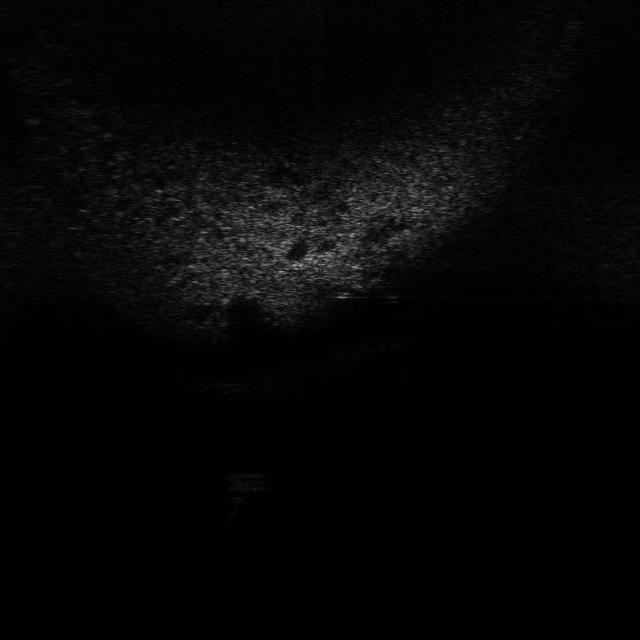ball: (370, 264, 410, 300)
cube: (220, 469, 270, 493)
